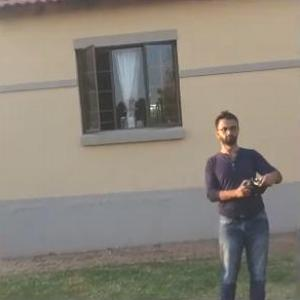follow: (197, 103, 284, 299)
